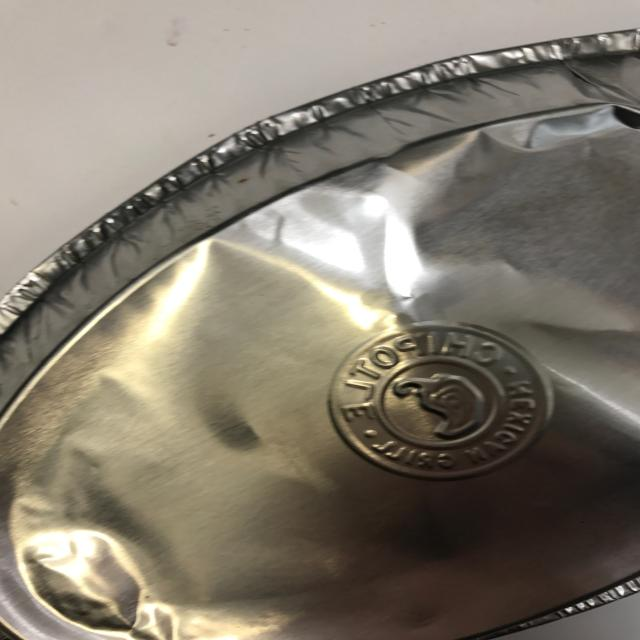metal: (0, 27, 640, 640)
